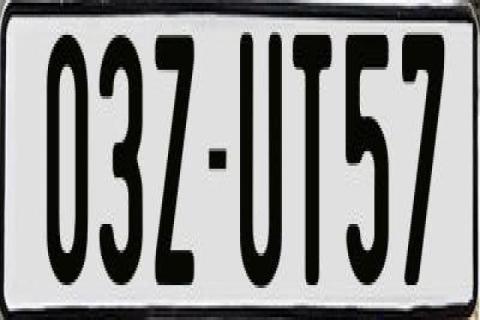0: (100, 26, 146, 291), (346, 32, 392, 282), (402, 29, 446, 282), (44, 32, 84, 291)
T: (290, 32, 334, 285)
U: (236, 24, 284, 288)
Z: (153, 26, 197, 288)
